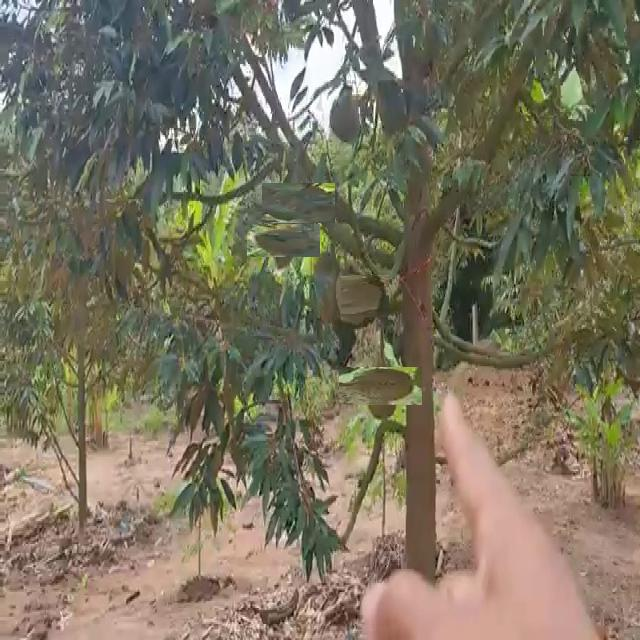durian: (351, 356, 412, 416), (270, 174, 328, 232), (326, 268, 382, 324), (256, 214, 310, 267), (310, 247, 341, 322), (327, 86, 362, 144)
